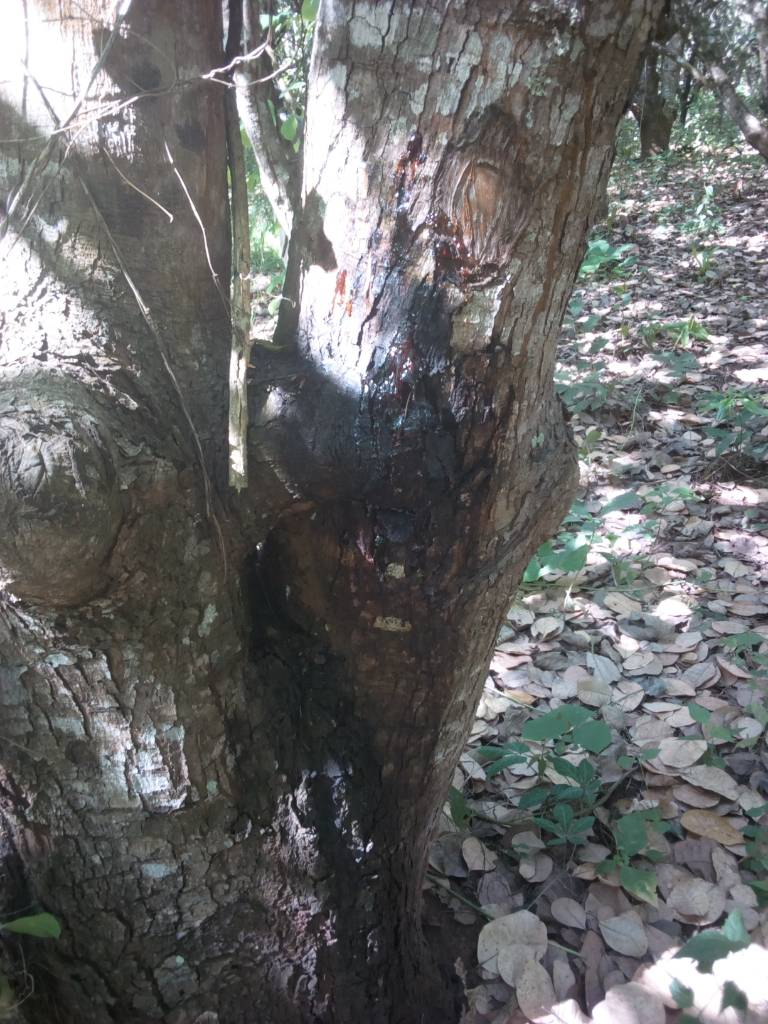Gommose: (363, 208, 496, 678), (254, 650, 418, 1008)
